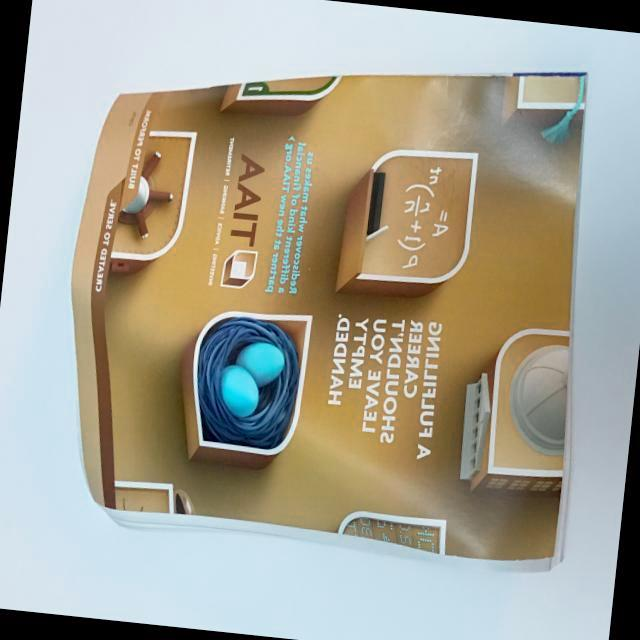paper: (37, 1, 633, 602)
